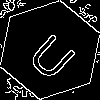U: (25, 25, 85, 83)
